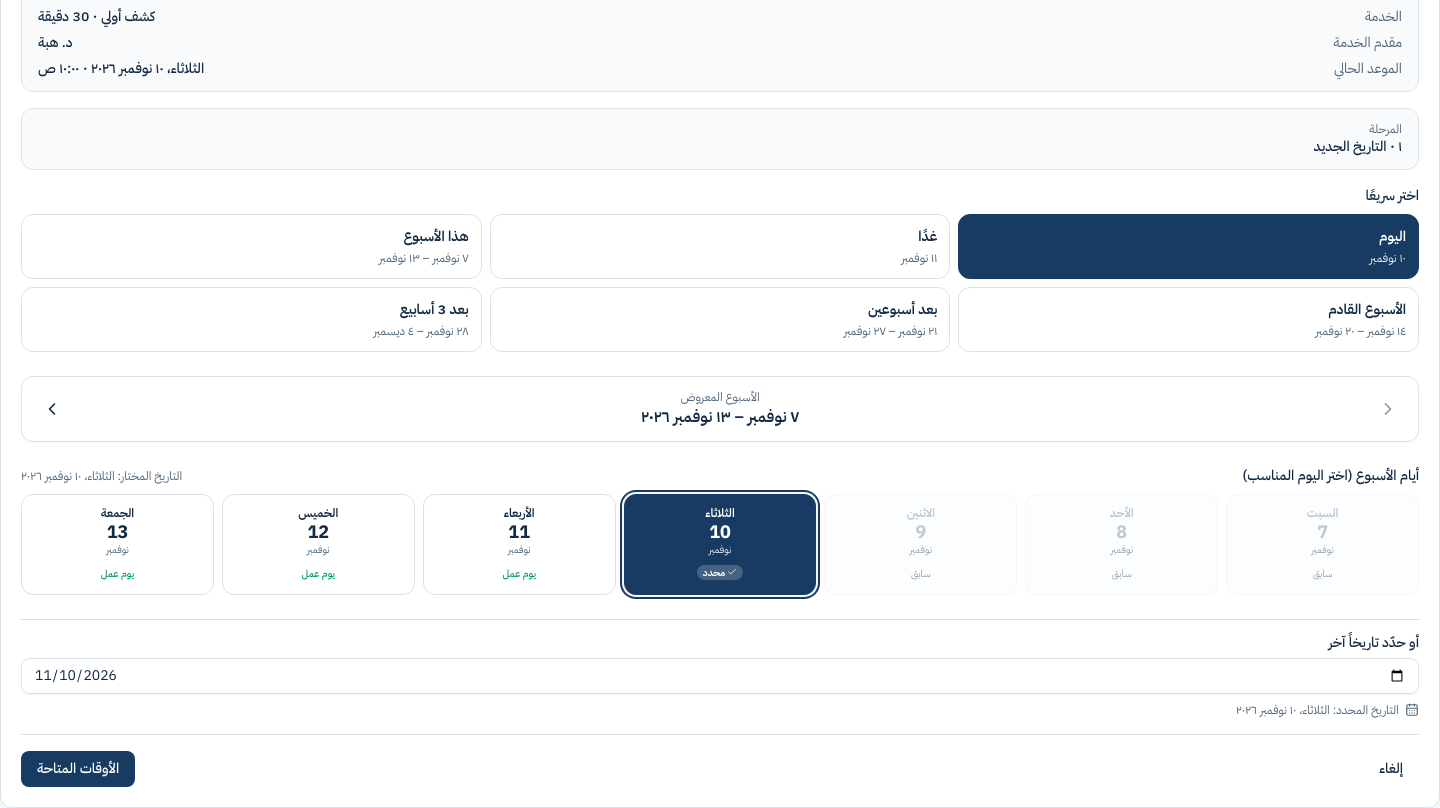
Test: ReschedulePanel mounted integration tests (ISS-005) › 2. advances to slot step with real child SlotStep and queries authoritative eligibility
This screenshot has width=1440, height=808.
(page scrolled)
Click the button "الأوقات المتاحة". click: (78, 769)
box: [21, 751, 135, 787]
(page scrolled)
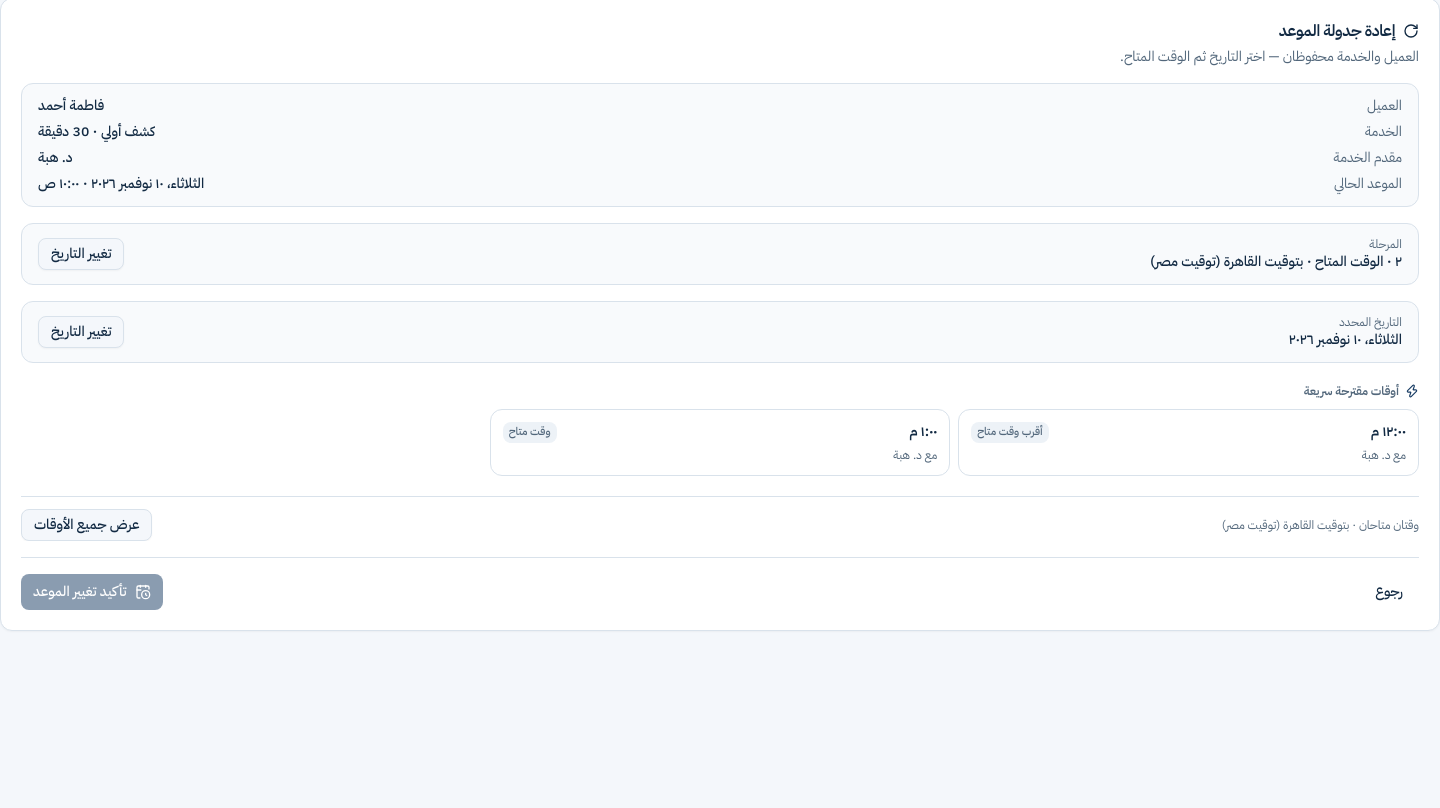
Expected: the text "٢ · الوقت المتاح" is shown, [1261, 251, 1402, 272]
